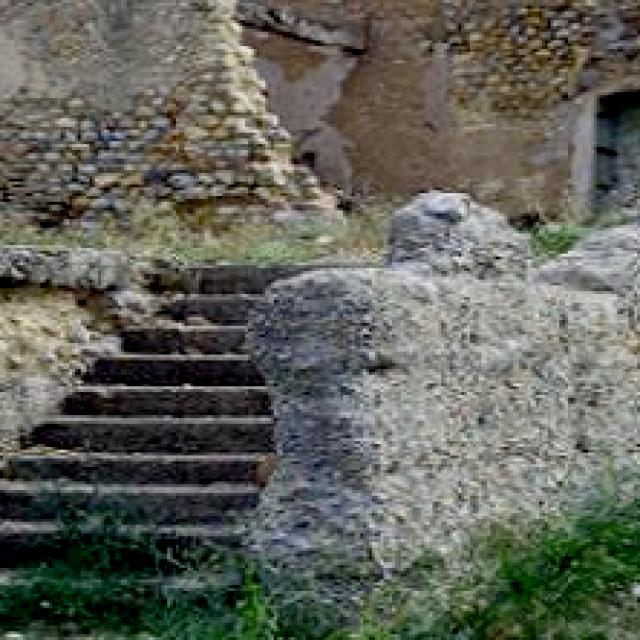upstair: (1, 263, 367, 543)
